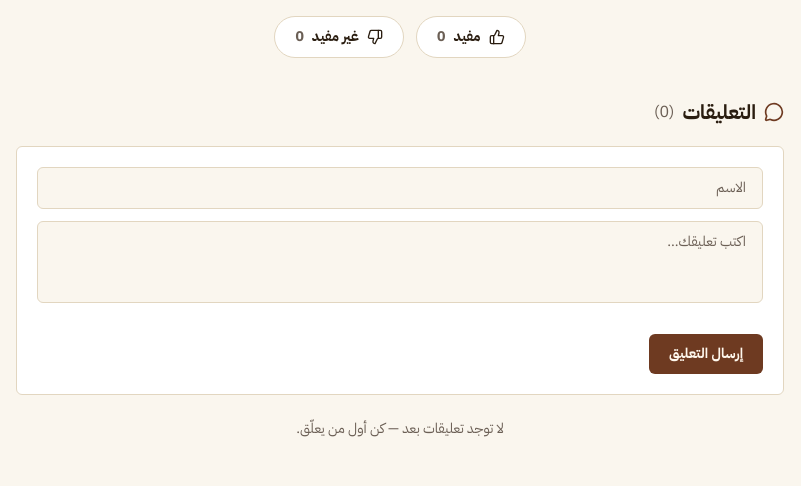
تفاعل التعليقات العامة › يمنع الإرسال عند غياب رمز Turnstile
This screenshot has width=801, height=486.
Type "أحمد" into the field labelled "الاسم" at (400, 188), box [37, 167, 763, 209]
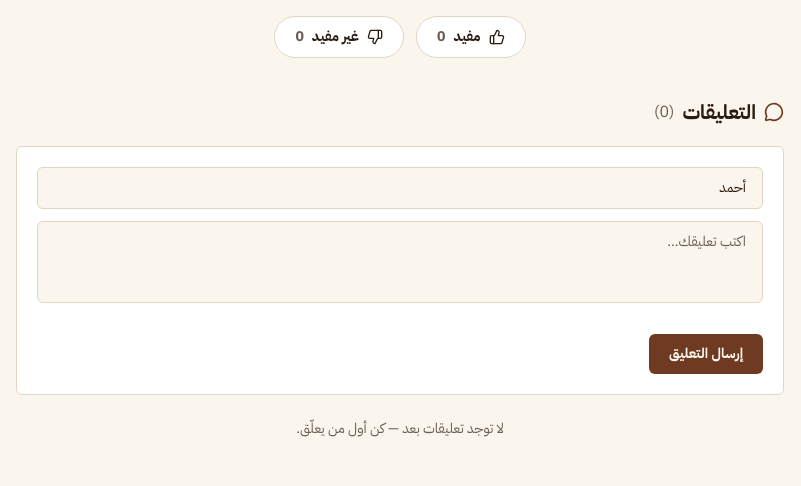
Type "تعليق جديد" into the text box named "التعليق" at (400, 262), box [37, 221, 763, 303]
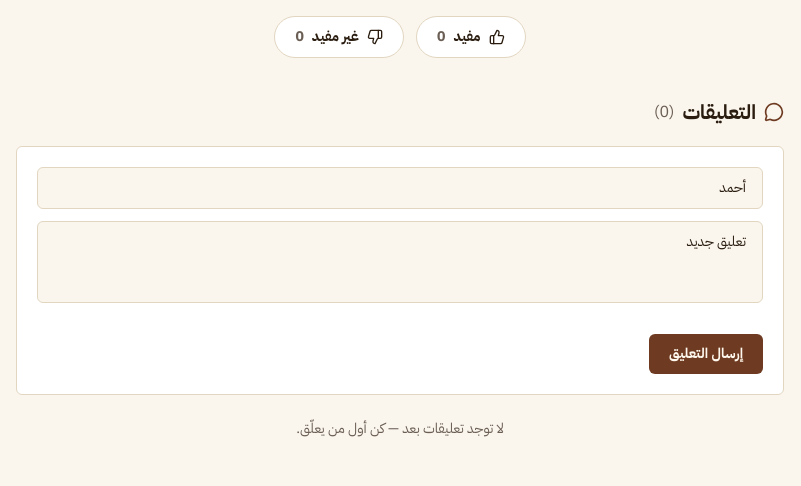
Click the button "إرسال التعليق" at (706, 354), box [649, 334, 763, 374]
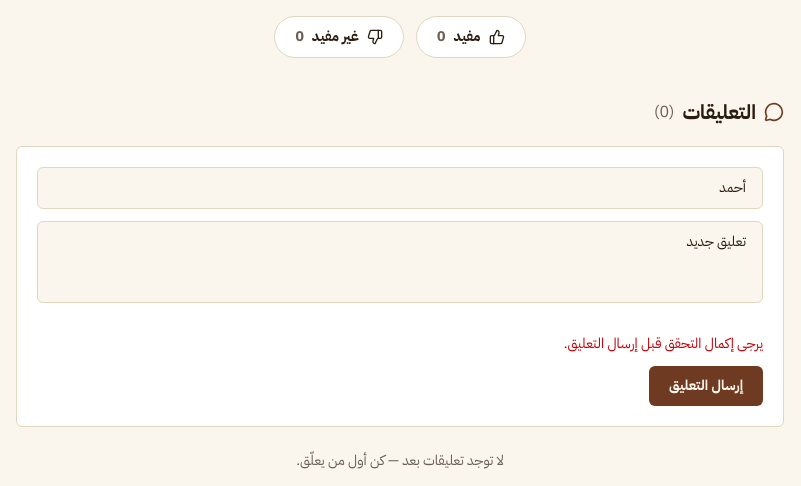
Expected: the message shows "إكمال التحقق", [564, 333, 763, 354]
